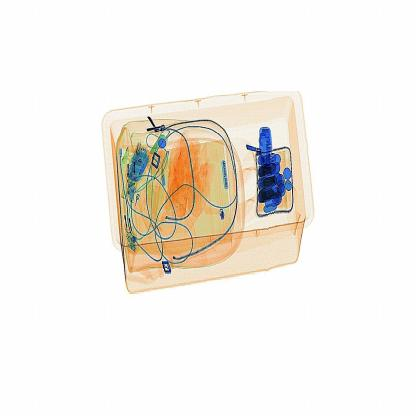scissors: (252, 112, 282, 174)
